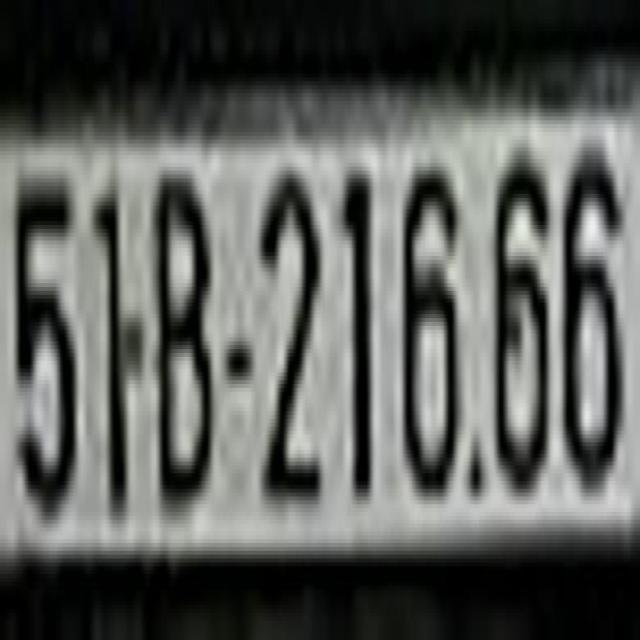1: (92, 171, 130, 516), (340, 152, 377, 504)
2: (258, 161, 324, 510)
5: (13, 159, 80, 520)
6: (562, 128, 622, 493), (494, 142, 551, 494), (402, 148, 458, 504)
B: (152, 153, 214, 510)
